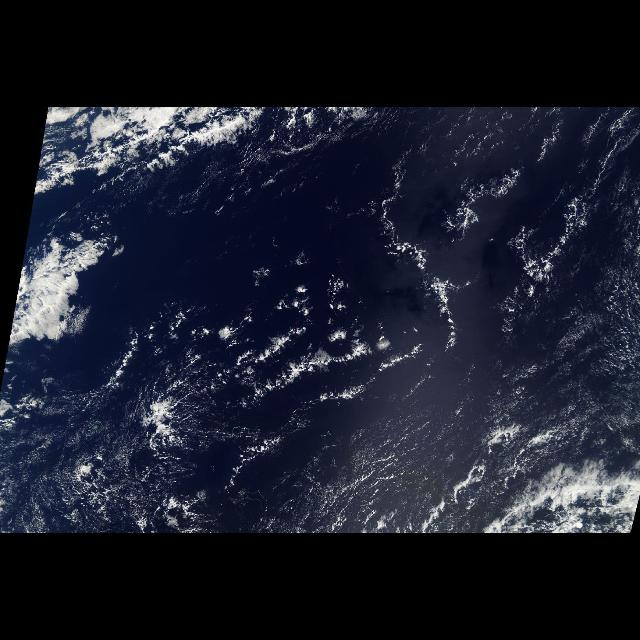Sugar: (200, 152, 640, 524), (7, 388, 152, 522)
